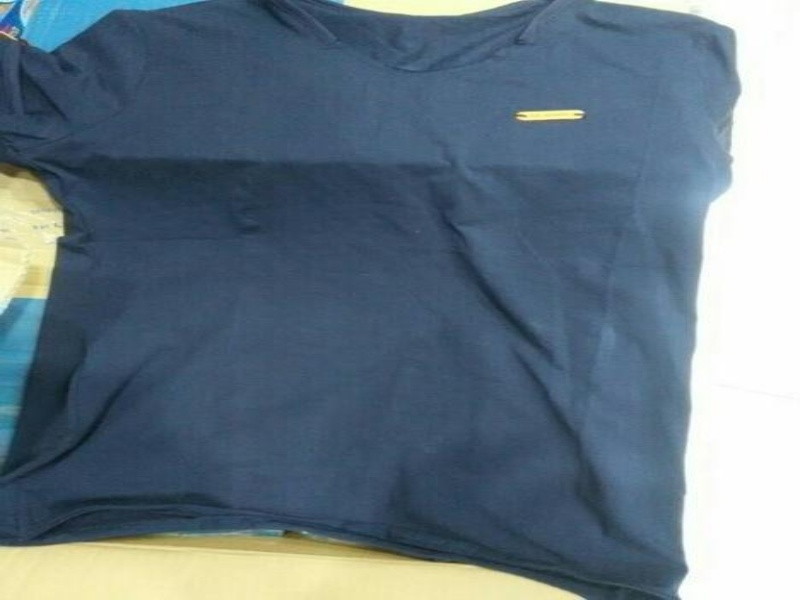short_sleeved_shirt: (2, 0, 750, 599)
